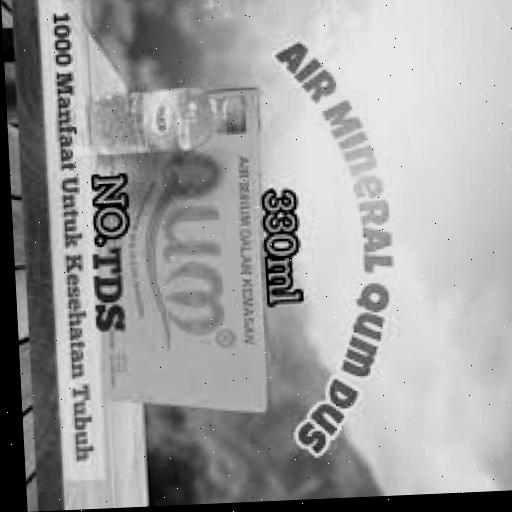bottle: (82, 87, 254, 163)
